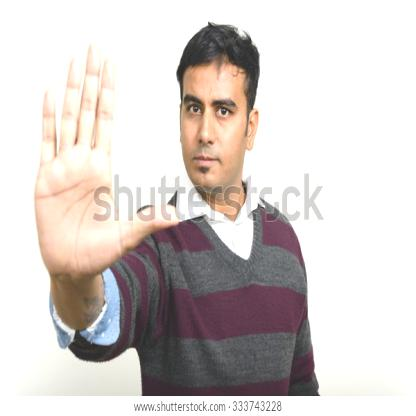Stop: (33, 38, 138, 278)
